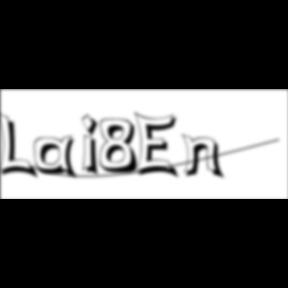8: (100, 117, 144, 176)
E: (135, 110, 184, 182)
L: (0, 110, 40, 182)
a: (34, 135, 82, 182)
i: (82, 112, 106, 180)
n: (182, 132, 228, 181)
